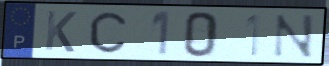0: (181, 10, 221, 59)
1: (147, 9, 171, 58), (244, 14, 262, 57)
C: (88, 10, 129, 55)
K: (43, 9, 79, 54)
N: (271, 13, 317, 60)
